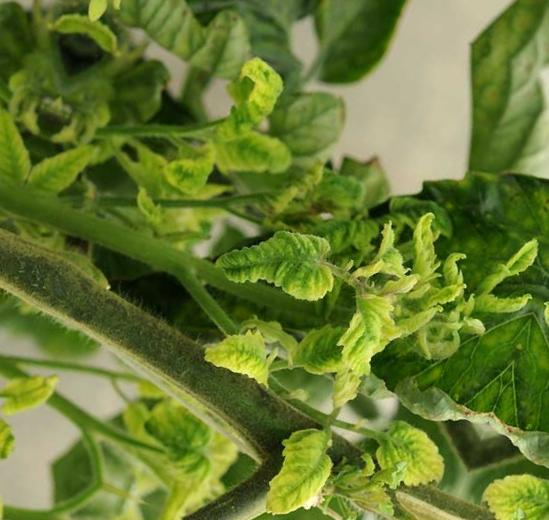Tomato leaf yellow virus: (202, 202, 362, 337), (170, 301, 308, 407), (303, 290, 397, 411), (257, 419, 354, 520)
